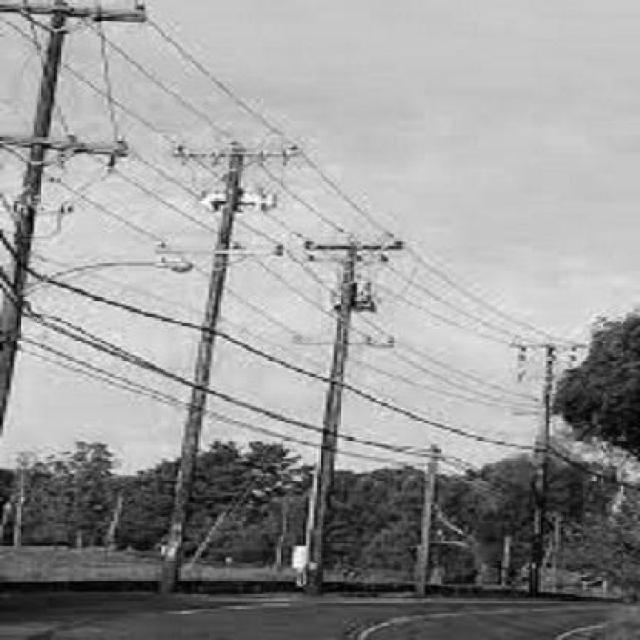Pole: (156, 145, 297, 591), (0, 0, 143, 424), (305, 240, 404, 592)
